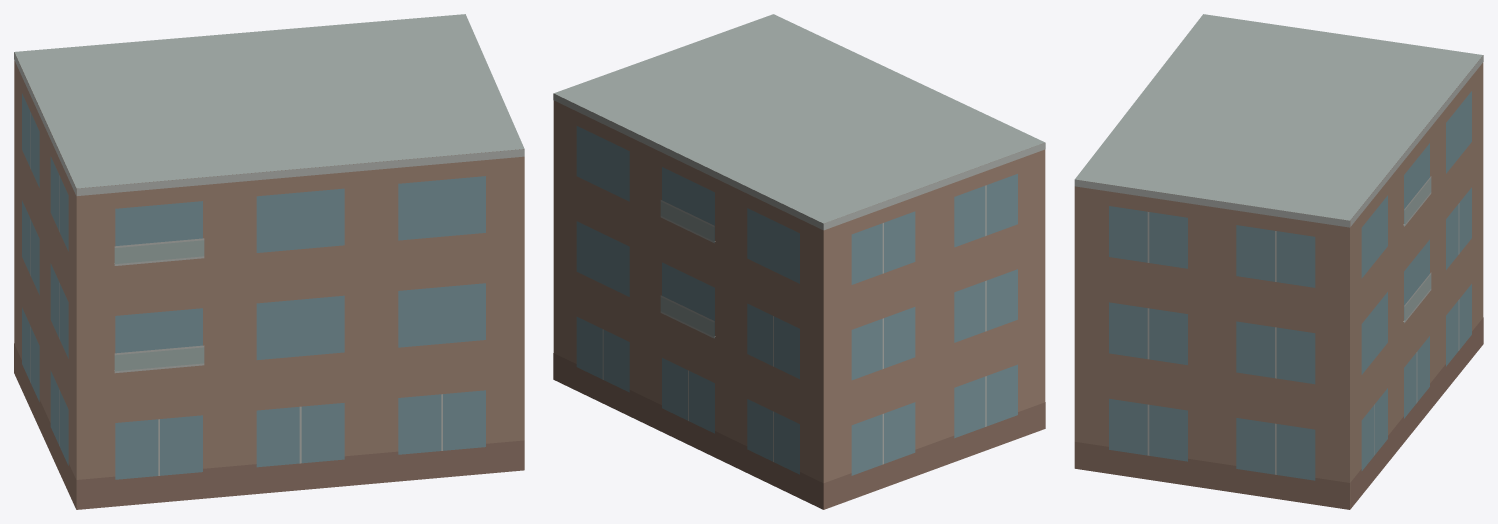
File: survey-upis-32942974.glb
The picture shows the model from 3 angles, left to right: view 1: azimuth 30°, elevation 25°; view 2: azimuth 150°, elevation 25°; view 3: azimuth 270°, elevation 25°; orthographic projection. The views are drawn at different scales.
Visible parts, largest first — view 1: survey-upis-32942974.tmp; view 2: survey-upis-32942974.tmp; view 3: survey-upis-32942974.tmp.
Boxes of the visible parts, x1,y1,x2,y2 form: survey-upis-32942974.tmp: (14,14,524,509); survey-upis-32942974.tmp: (553,14,1045,509); survey-upis-32942974.tmp: (1074,14,1483,509).
Bounding box in the file's own units: 15.64 × 10.2 × 13.07.
